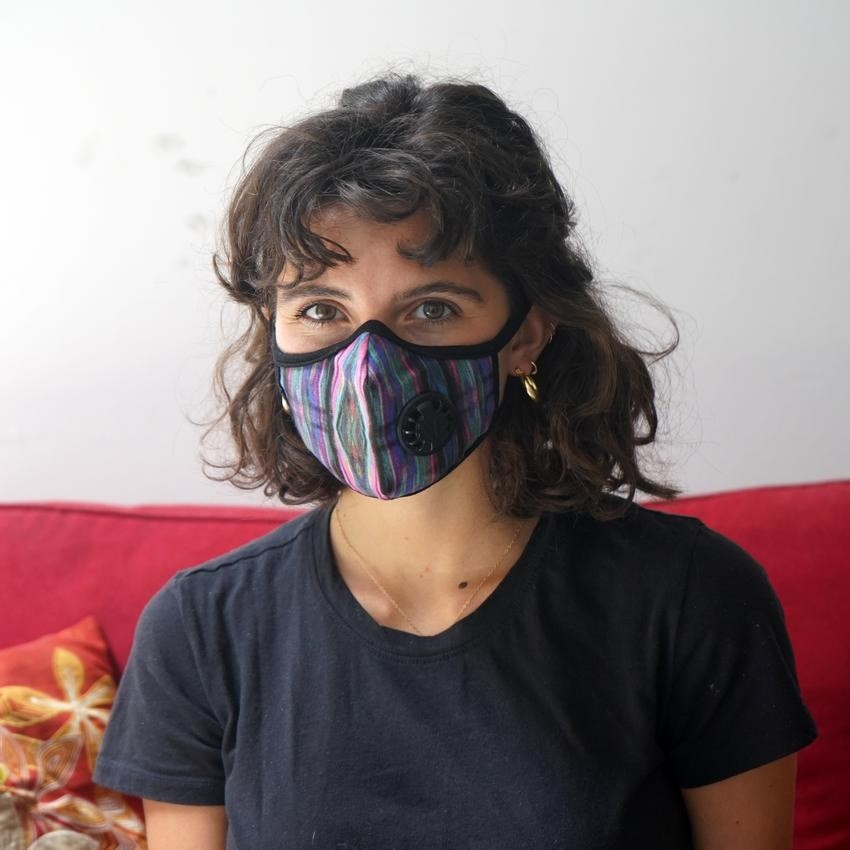face_with_mask: (249, 172, 550, 537)
